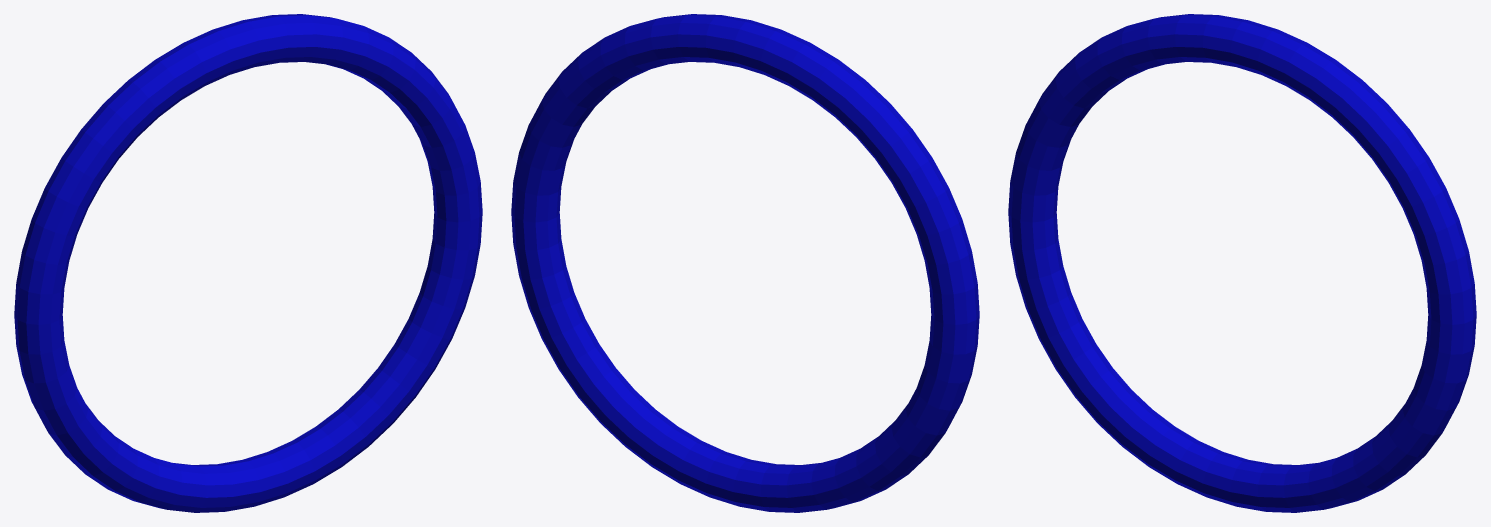
File: ring.OBJ
3 views of the same model, side by side, from view 1: azimuth 30°, elevation 25°; view 2: azimuth 150°, elevation 25°; view 3: azimuth 330°, elevation 25° (orthographic).
Visible parts, largest first — view 1: ring; view 2: ring; view 3: ring.
Boxes of the visible parts, <box> form: ring: <box>14,14,482,512</box>; ring: <box>511,14,979,512</box>; ring: <box>1008,14,1476,512</box>.
Bounding box in the file's own units: 0.1212 × 0.1212 × 0.011.
